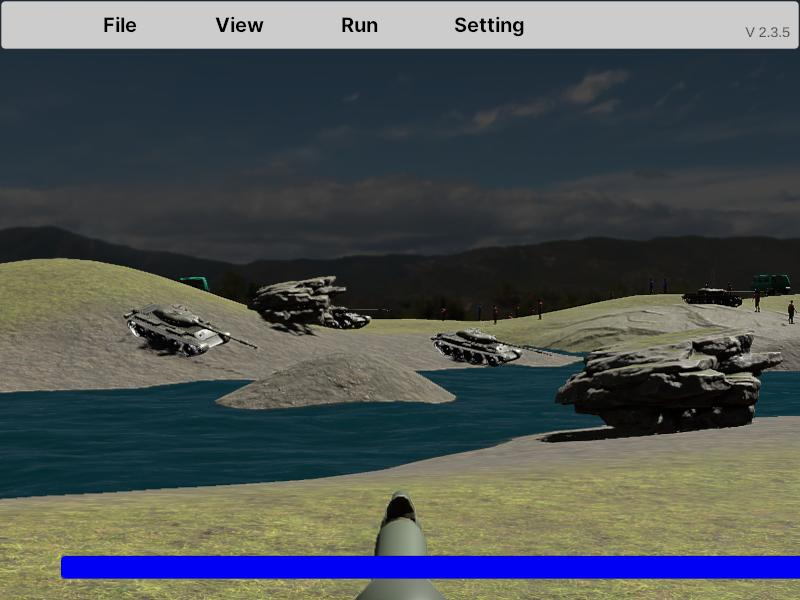Tank: (123, 303, 260, 358), (429, 328, 551, 368)
